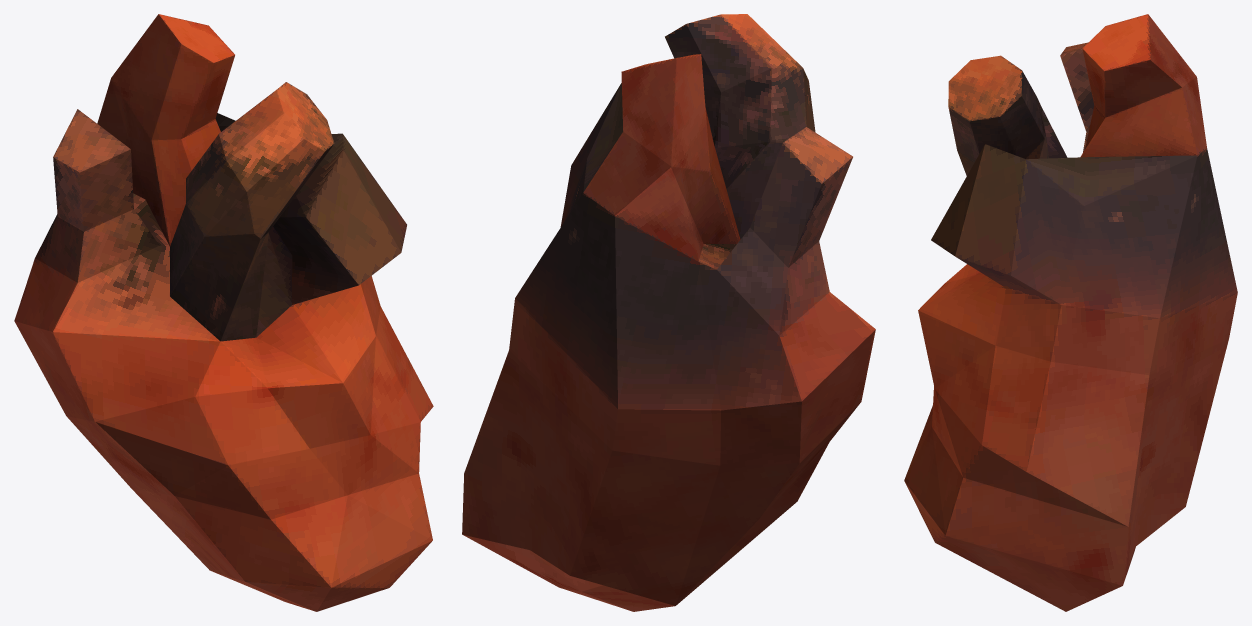
The model's file is item_quest_hlal_heart.glb.
3 views of the same model, side by side, from view 1: azimuth 30°, elevation 25°; view 2: azimuth 150°, elevation 25°; view 3: azimuth 270°, elevation 25° (orthographic). The views are drawn at different scales.
Visible parts, largest first — view 1: Heart; view 2: Heart; view 3: Heart.
Boxes of the visible parts, left/top/right/bottom form: Heart: left=14, top=14, right=433, bottom=611; Heart: left=462, top=14, right=875, bottom=611; Heart: left=904, top=14, right=1237, bottom=611.
Bounding box in the file's own units: 0.1856 × 0.2809 × 0.1598.
1 material, 1 textured.
